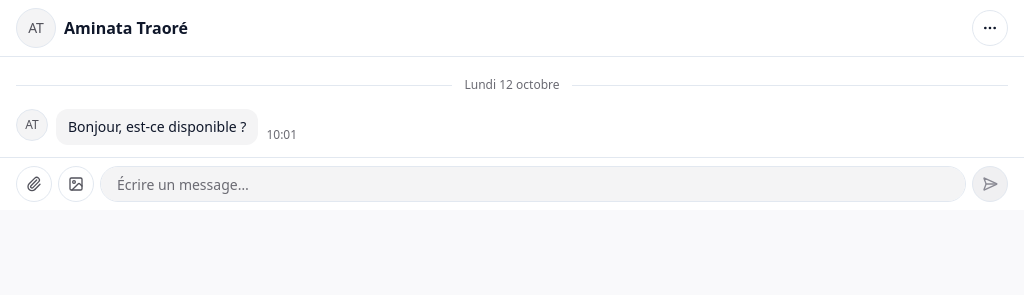
envoyer un message › quand la réponse s'est perdue, reconnaît le message revenu du serveur et ne le montre qu'une fois
Expected: the text "Bonjour, est-ce disponible ?" is shown, [56,109,258,145]
Type "Message écrit, réponse perdue." into the text box named "Écrire à Aminata Traoré".
click(533, 184); type("Message écrit, réponse perdue.")  # box [100,166,966,202]
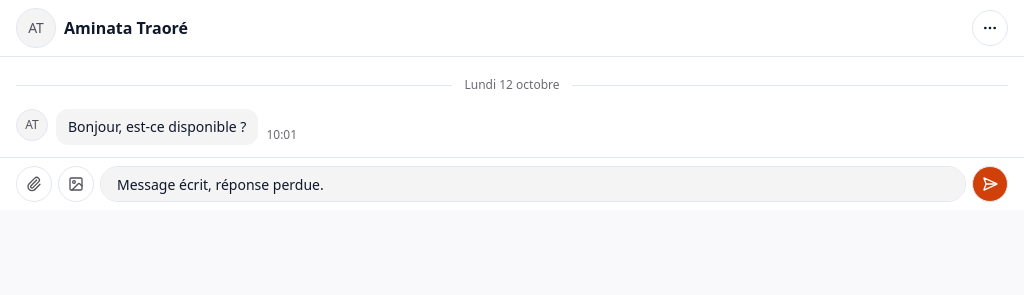
Press Enter in the text box named "Écrire à Aminata Traoré", box [100,166,966,202]
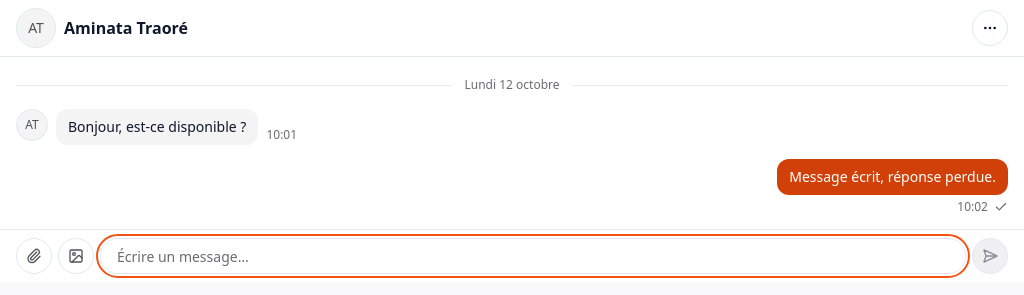
Expected: the element showing "Message écrit, réponse perdue. 10:02" is shown, [777,159,1023,222]
Expected: the text "Message écrit, réponse perdue." is shown once, [777,159,1008,195]
